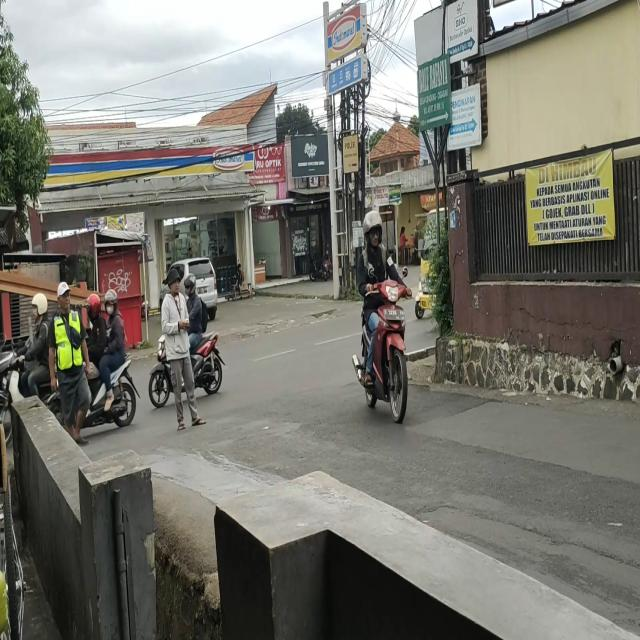helmet: (364, 212, 383, 246), (32, 290, 48, 317), (85, 292, 100, 316), (104, 291, 118, 314), (185, 274, 197, 294)
